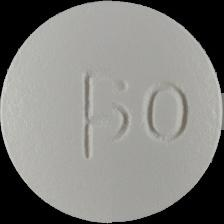67296-0620: (0, 0, 224, 224)
